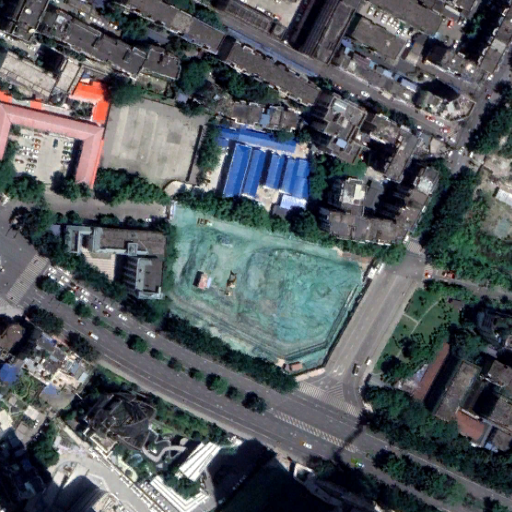cw: (164, 201, 371, 375)
